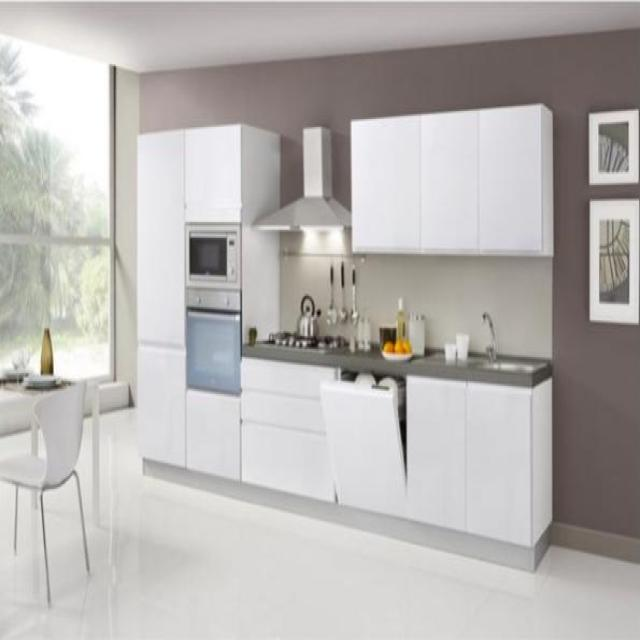dishwasher: (318, 364, 406, 520)
